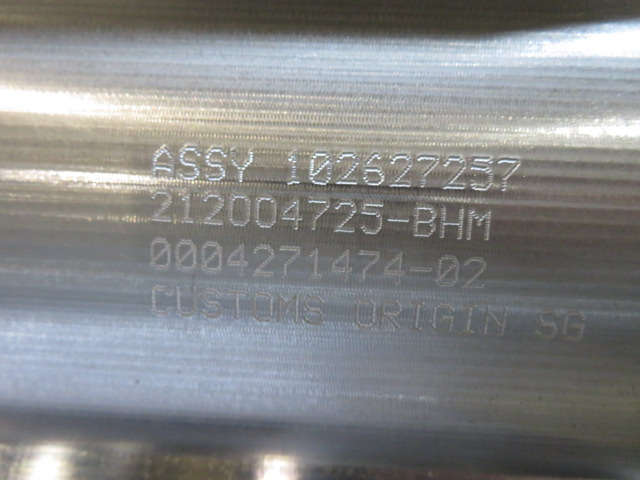character: (303, 146, 336, 187), (494, 153, 526, 193), (227, 145, 258, 185), (465, 153, 496, 192), (329, 196, 359, 236), (304, 196, 332, 238), (412, 150, 441, 190), (479, 303, 511, 339), (148, 143, 177, 182), (437, 201, 465, 241), (379, 248, 409, 285), (358, 196, 385, 237), (410, 200, 437, 241), (277, 243, 306, 281), (326, 245, 357, 280), (359, 148, 386, 188), (440, 152, 467, 192), (465, 201, 490, 244), (459, 254, 488, 291), (429, 299, 458, 336), (200, 282, 226, 323), (560, 307, 588, 345), (334, 148, 361, 187), (387, 151, 414, 190), (147, 235, 174, 274), (250, 241, 277, 280), (353, 246, 380, 285), (172, 234, 198, 274), (248, 287, 276, 324), (274, 288, 302, 325), (202, 144, 227, 185), (197, 191, 226, 226), (146, 283, 175, 318), (176, 143, 202, 182), (300, 289, 326, 328), (433, 253, 461, 289), (385, 200, 412, 237), (279, 146, 303, 187), (406, 251, 434, 286), (149, 188, 175, 225), (532, 308, 561, 341), (198, 240, 225, 275), (352, 294, 378, 330), (379, 296, 403, 335), (226, 238, 249, 278), (173, 283, 199, 318), (226, 192, 252, 226), (253, 195, 279, 228), (457, 298, 479, 337), (225, 287, 250, 321), (404, 299, 429, 333), (282, 195, 304, 231), (306, 244, 325, 280), (178, 191, 198, 225)
